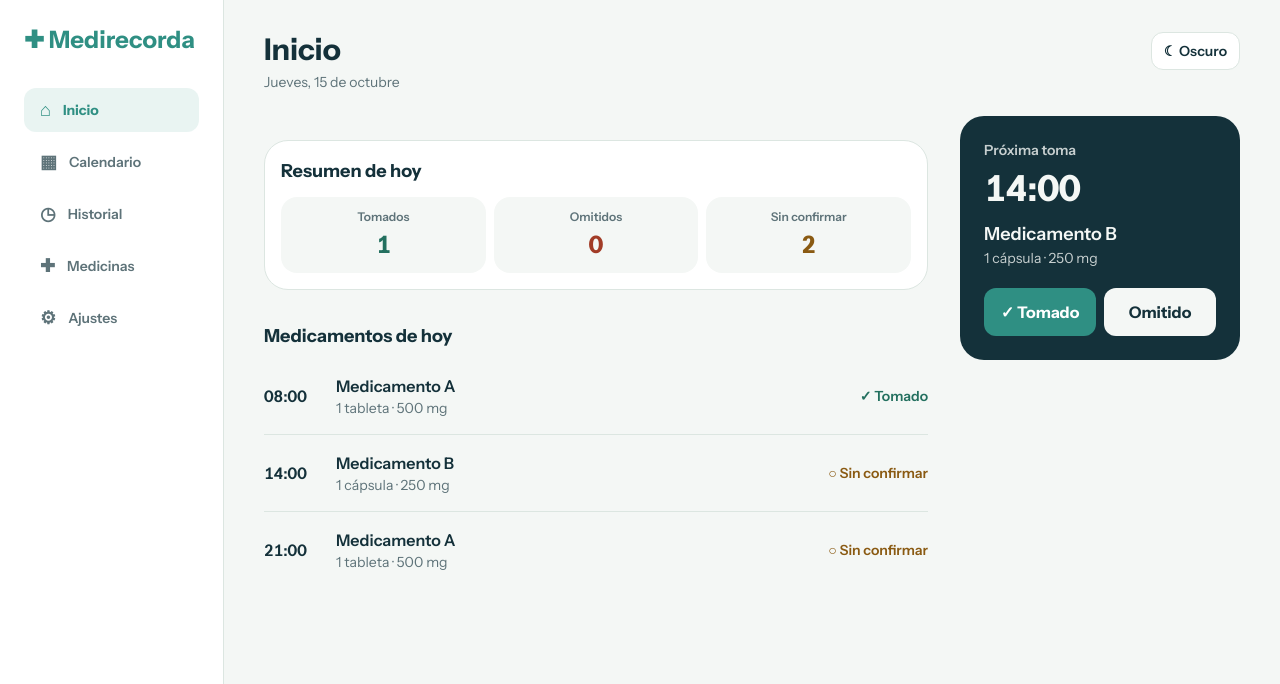
Test: selector de horarios: apertura y cancelación › al abrir el selector se bloquean editar, quitar y Guardar, y se explica por qué
Click the button "✚ Medicinas" at {"x": 112, "y": 266}, box [24,244,199,288]
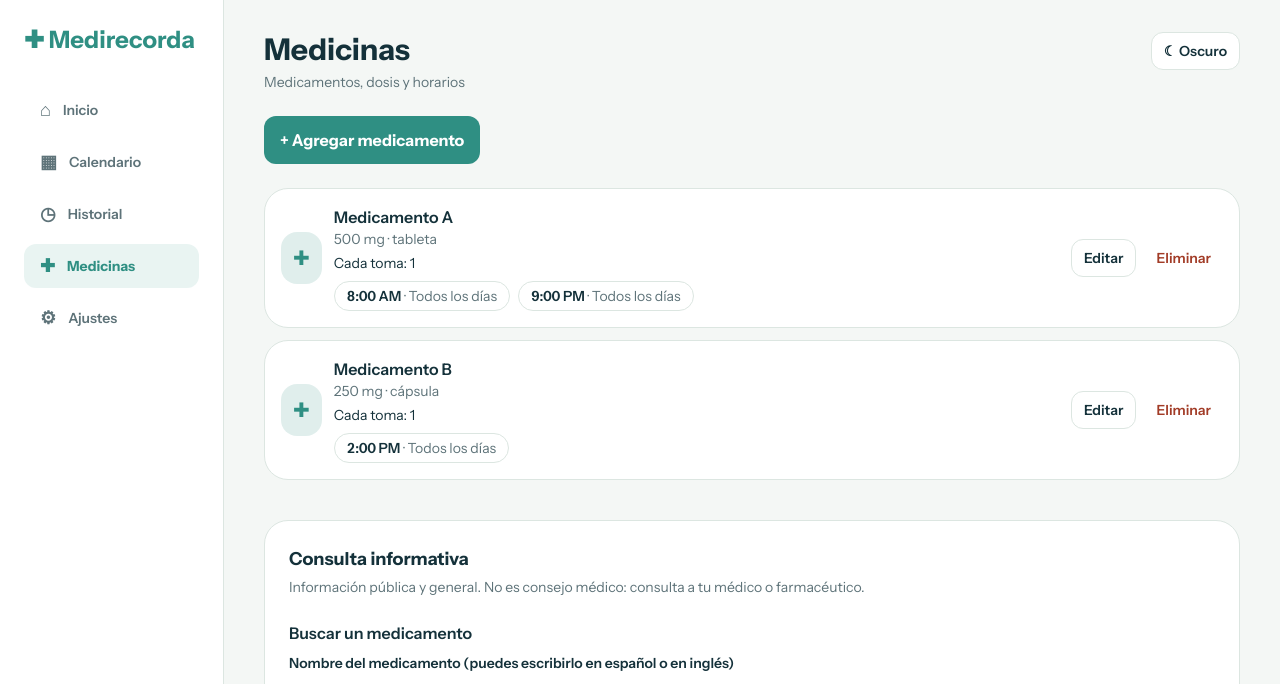
Click the button "+ Agregar medicamento" at {"x": 372, "y": 140}, box [264,116,480,164]
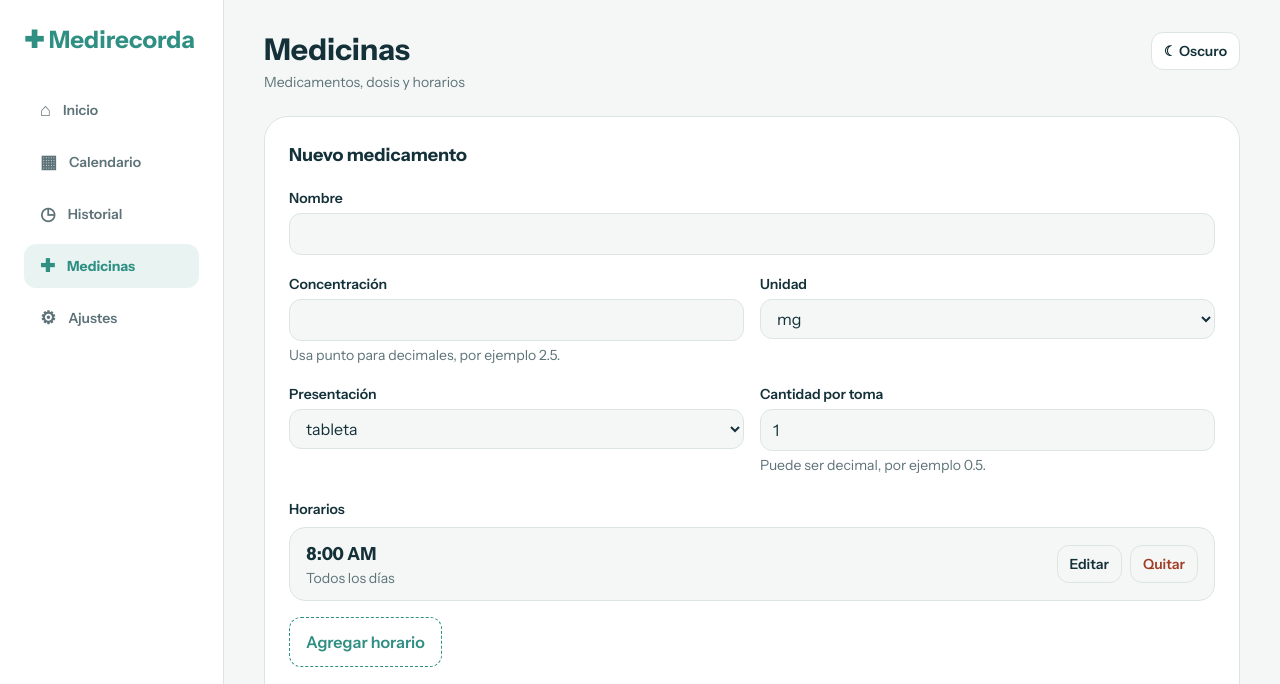
Type "Prueba" into the field labelled "Nombre" at {"x": 752, "y": 234}, box [289,213,1215,255]
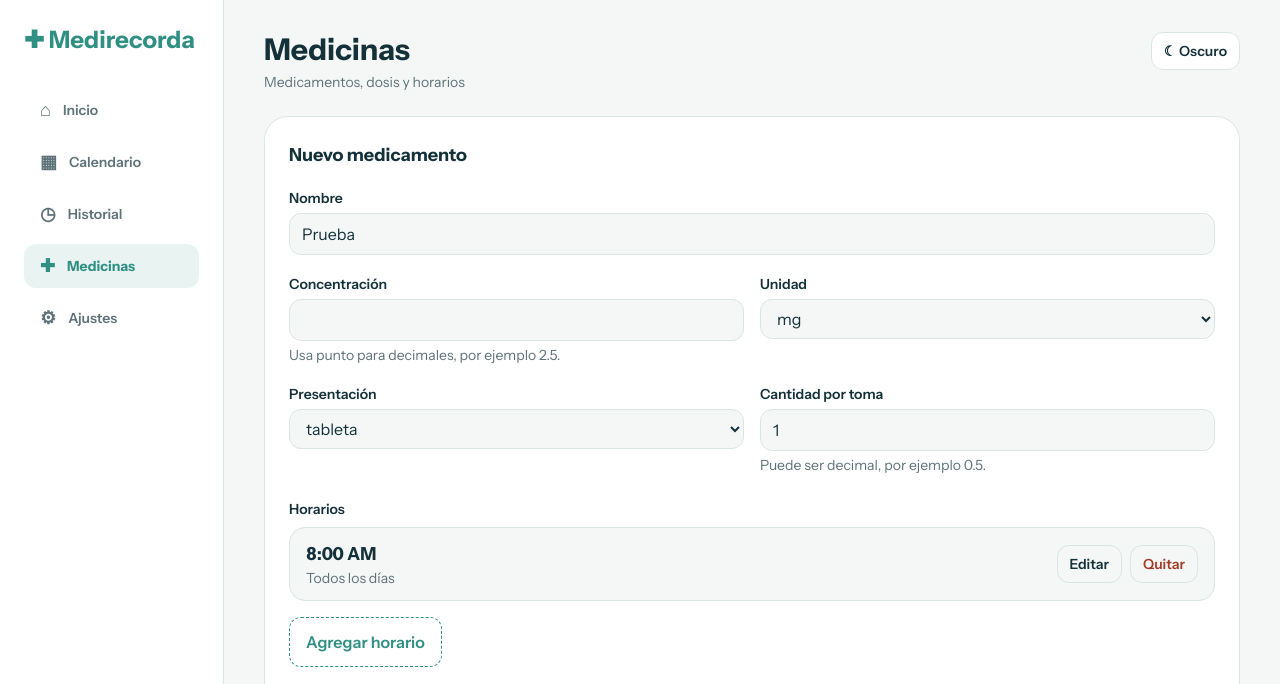
Type "500" into the field labelled "Concentración" at {"x": 516, "y": 320}, box [289,299,744,341]
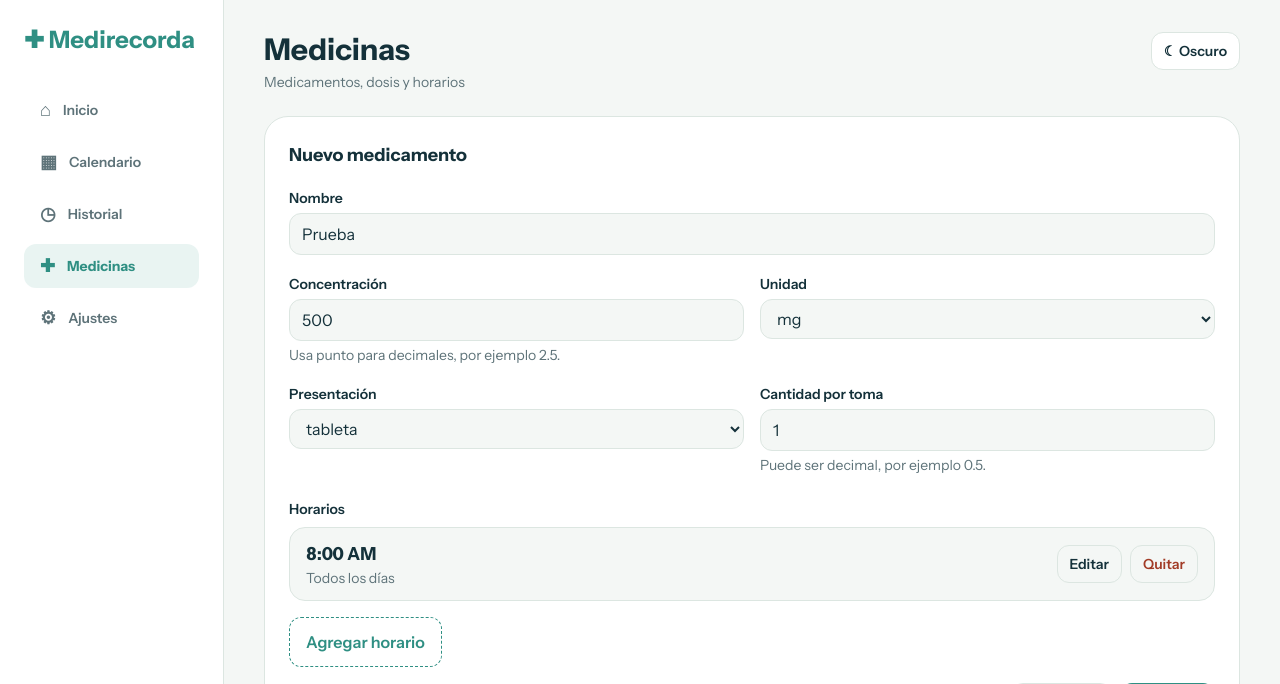
Click the button "Agregar horario" at {"x": 365, "y": 642}, box [289,617,442,667]
(page scrolled)
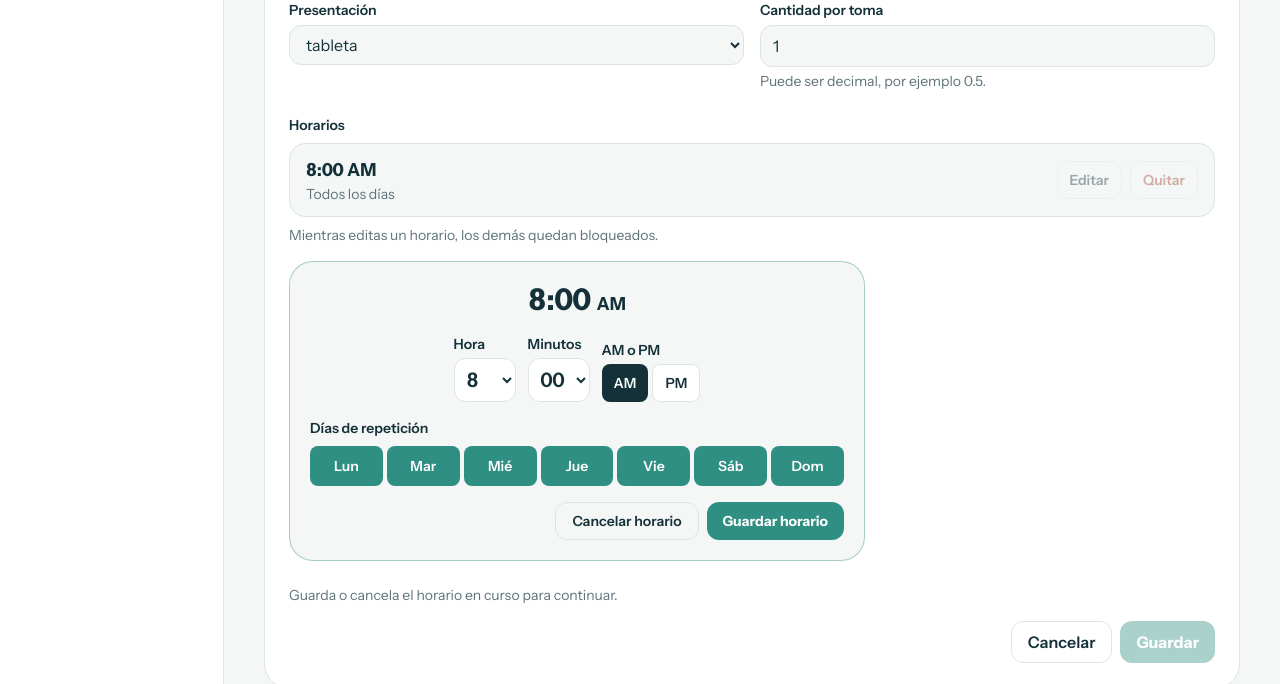
Now the button with aria-label "Editar horario 8:00 AM" is disabled, box [1056,161,1122,199]
Now the button with aria-label "Quitar horario 8:00 AM" is disabled, box [1130,161,1198,199]
Now the button "Guardar" is disabled, box [1120,621,1215,663]
